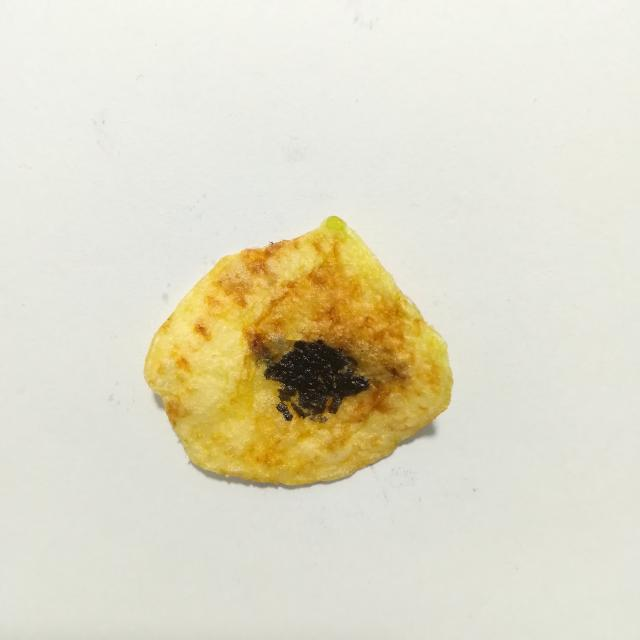chip: (144, 217, 452, 485)
damaged: (264, 340, 370, 418), (276, 400, 293, 421)
semi-damaged: (250, 332, 295, 368)
